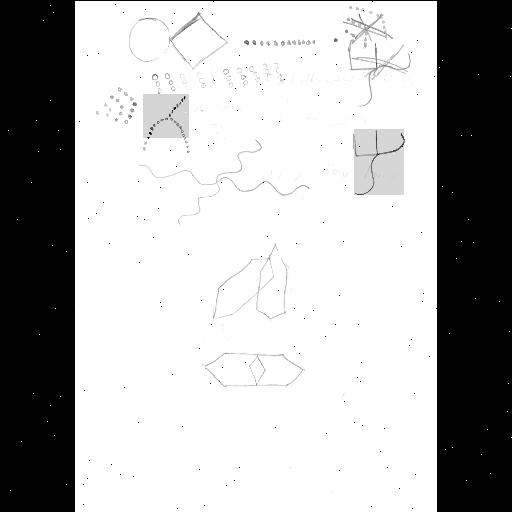shape-1: (128, 12, 228, 70)
shape-2: (244, 36, 314, 48)
shape-3: (154, 61, 280, 93)
shape-4: (97, 82, 139, 124)
shape-5: (354, 129, 404, 195)
shape-6: (143, 94, 189, 152)
shape-7: (138, 138, 312, 224)
shape-8: (214, 240, 288, 320)
shape-9: (204, 352, 306, 388)
